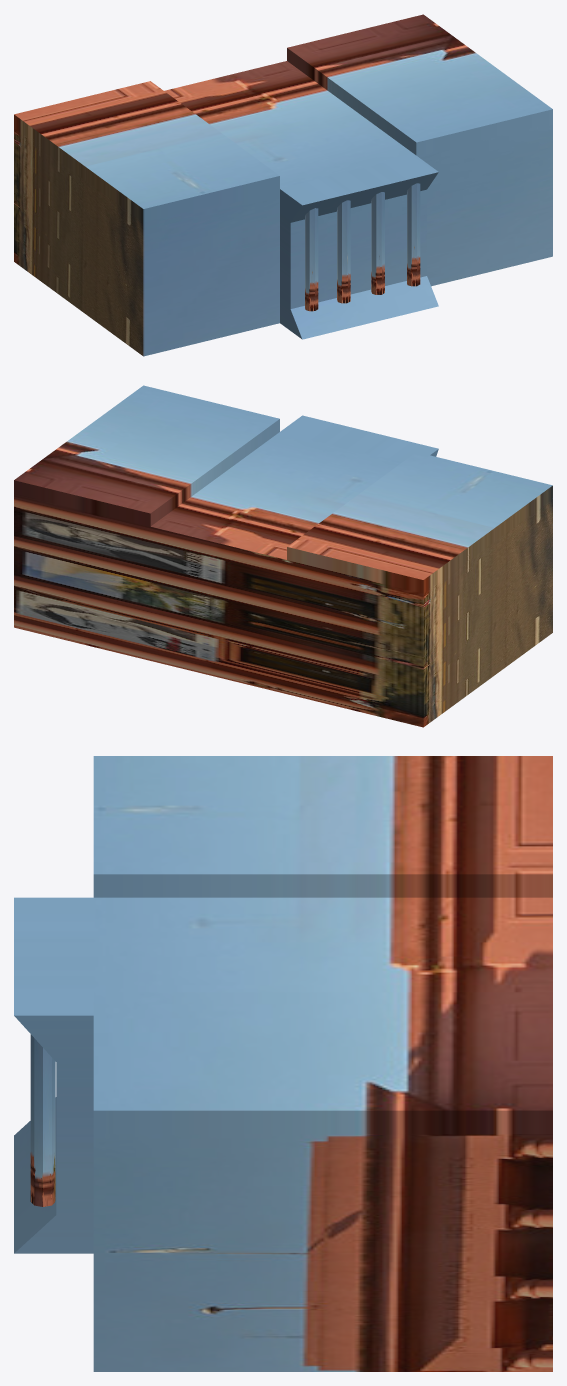
File: BellasArtes.gltf
3 renders of one model, top to bottom at view 1: azimuth 30°, elevation 25°; view 2: azimuth 150°, elevation 25°; view 3: azimuth 270°, elevation 25°, orthographic. The views are drawn at different scales.
Visible parts, largest first — view 1: BellasArtes.001; view 2: BellasArtes.001; view 3: BellasArtes.001.
Part boxes in pixels (x1=…): BellasArtes.001: x1=14, y1=14, x2=552, y2=356; BellasArtes.001: x1=14, y1=385, x2=552, y2=727; BellasArtes.001: x1=14, y1=756, x2=552, y2=1371.
Size of the model in its own units: 1.39 by 0.4793 by 0.8957.
1 material, 1 textured.
